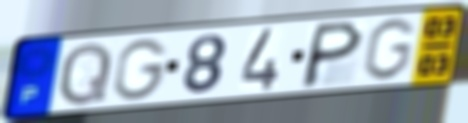4: (240, 26, 281, 92)
8: (182, 33, 229, 96)
G: (111, 37, 172, 103), (359, 16, 419, 83)
P: (297, 18, 367, 90)
Q: (55, 39, 115, 109)
